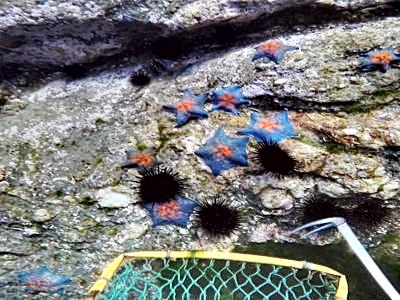urchin: (135, 167, 179, 200), (198, 198, 238, 234), (257, 138, 296, 172), (303, 196, 344, 227), (350, 195, 382, 223), (130, 73, 149, 86)
